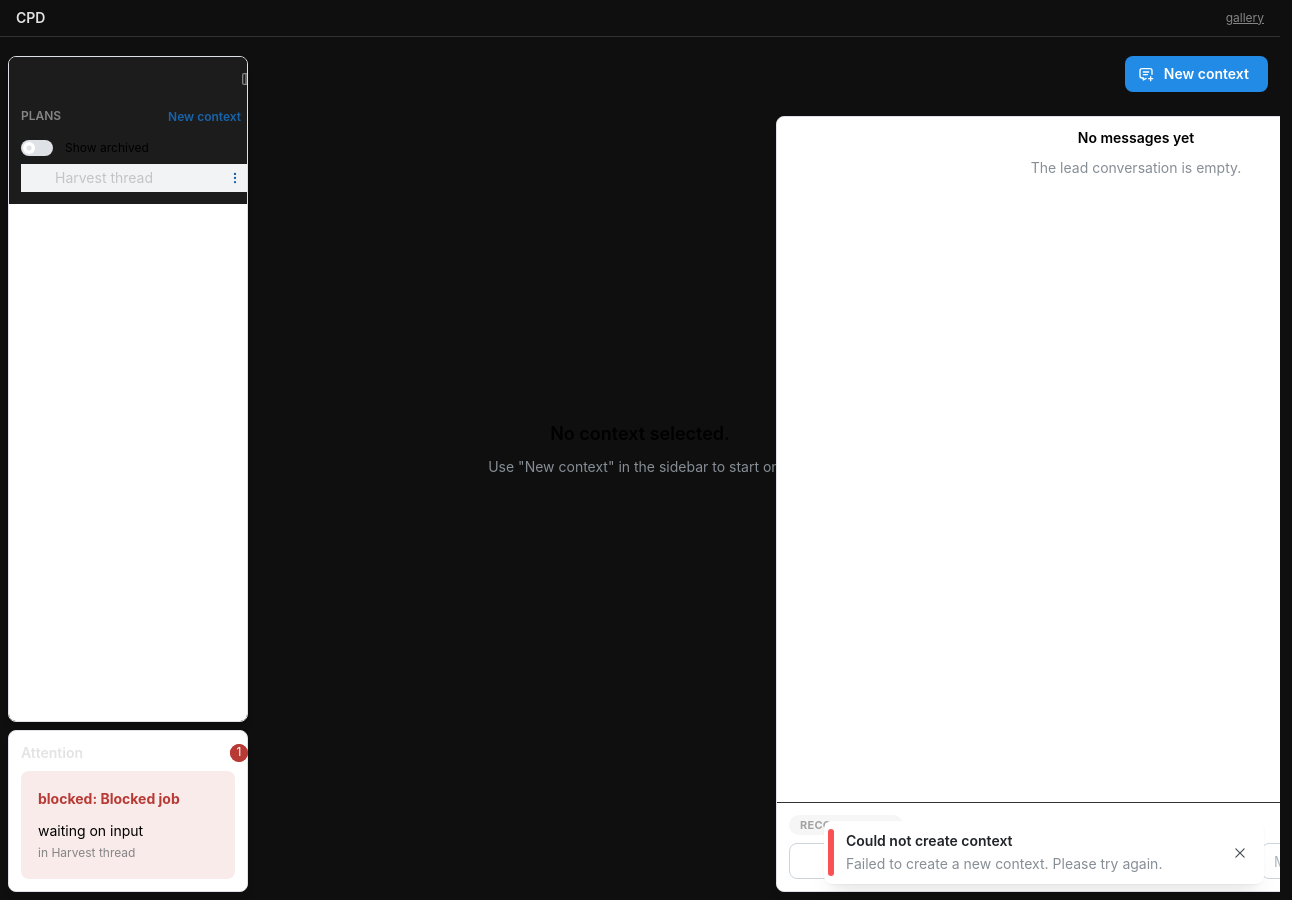
Test: App shows only real conversations, no fixtures (I2) › clicking an attention item for a different conversation switches to it and opens the action bar
Click the message with test id "attention-item-job-1". click: coordinates (128, 825)
box: [21,771,235,879]
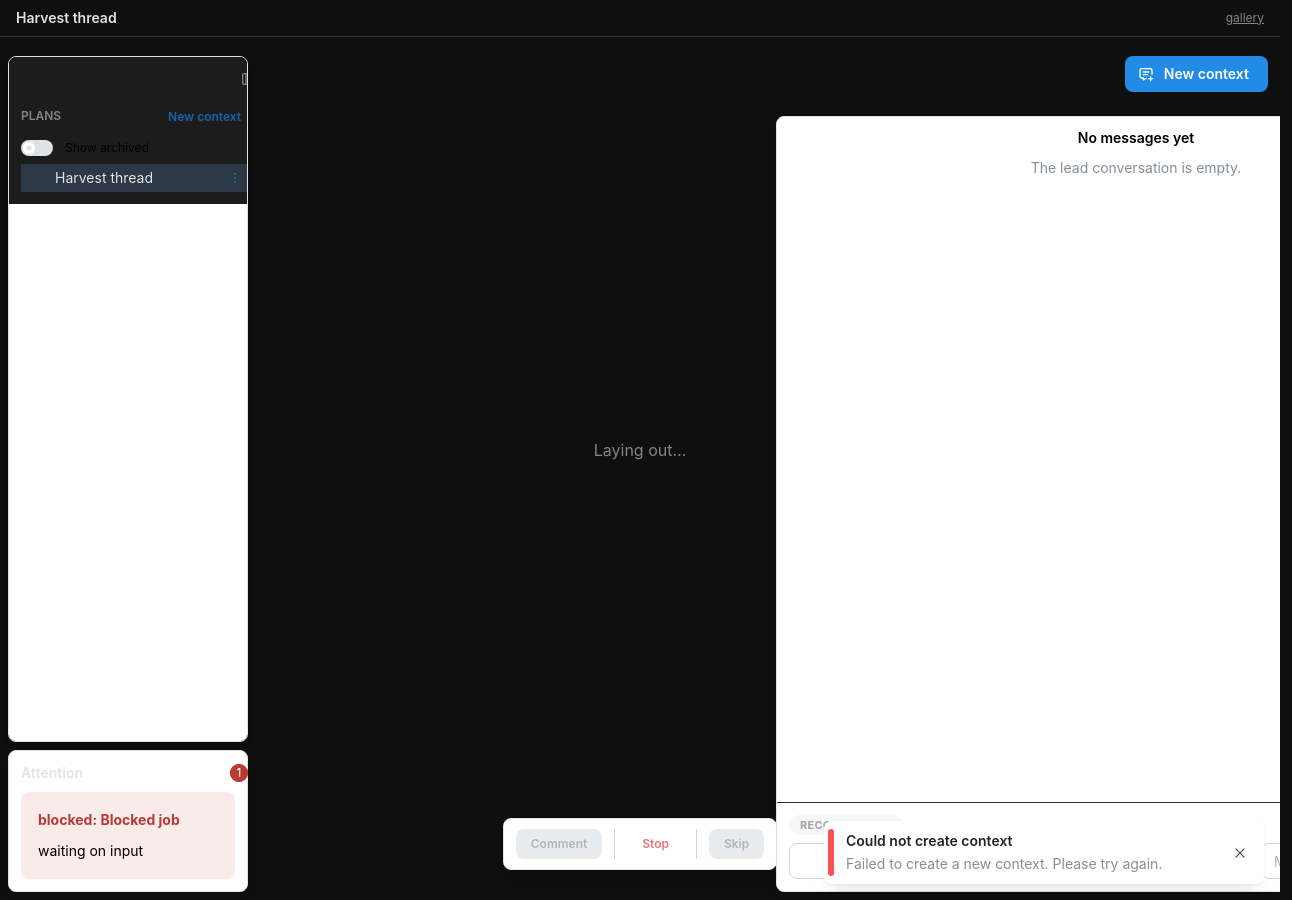
Now the button with test id "action-stop" is enabled, box [627,829,684,859]
